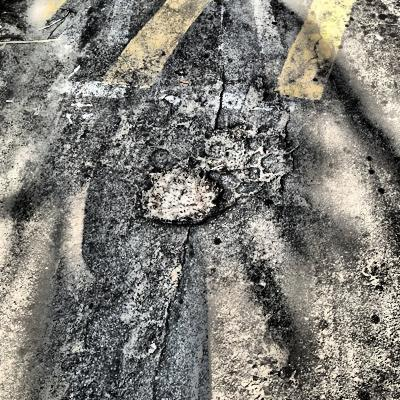pothole: (136, 163, 227, 228), (199, 123, 257, 172)
